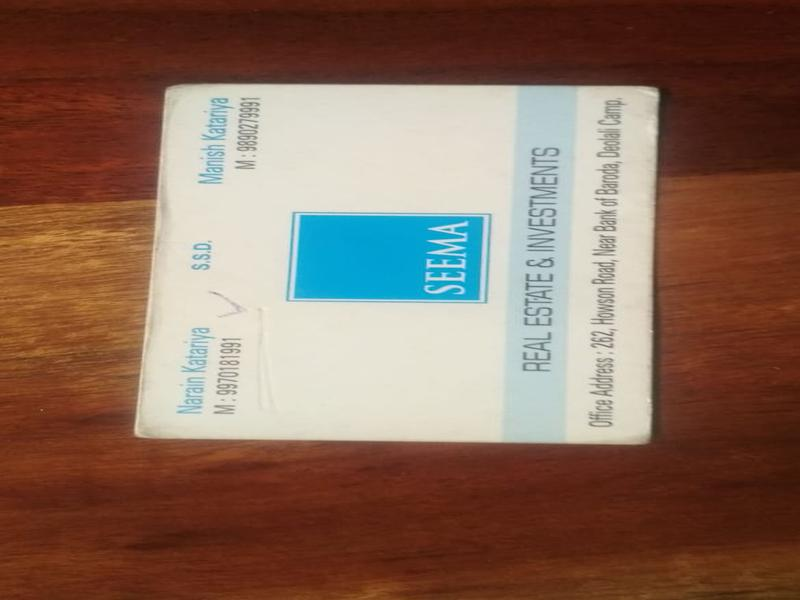card: (134, 85, 661, 444)
